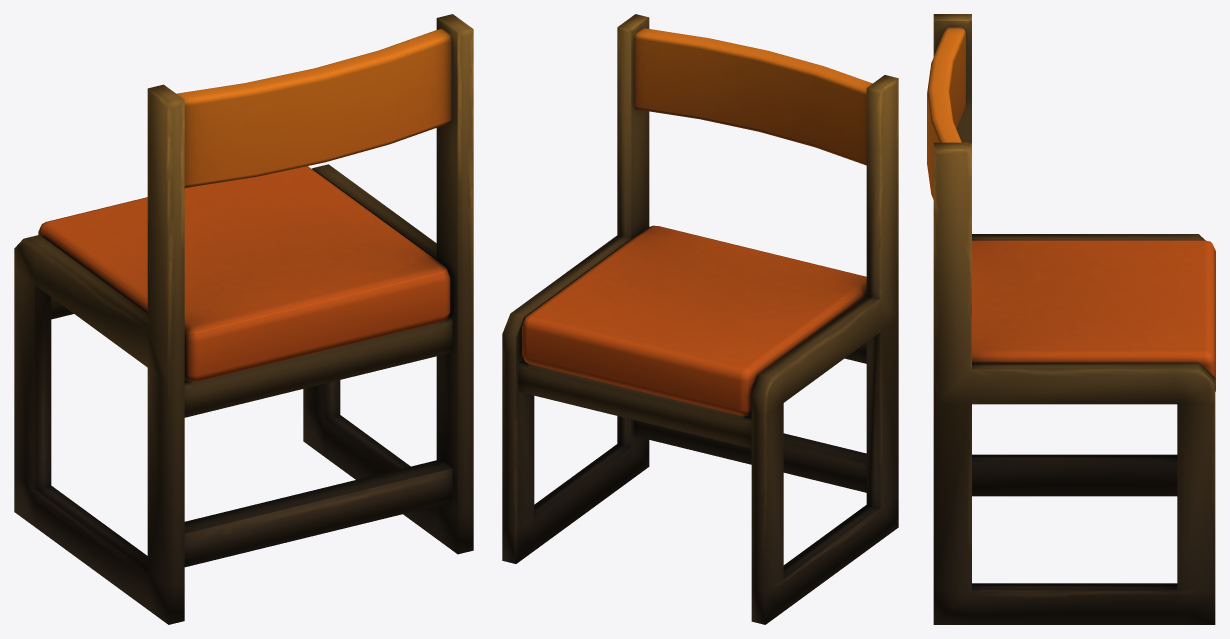
The model's file is Chair.fbx.
The picture shows the model from 3 angles, left to right: view 1: azimuth 30°, elevation 25°; view 2: azimuth 150°, elevation 25°; view 3: azimuth 270°, elevation 25°; orthographic projection. The views are drawn at different scales.
Visible parts, largest first — view 1: Chair; view 2: Chair; view 3: Chair.
Boxes of the visible parts, x1,y1,x2,y2 form: Chair: (14,14,473,624); Chair: (502,14,898,624); Chair: (927,14,1215,624).
Bounding box in the file's own units: 35.69 × 58.24 × 32.07.
